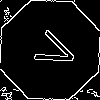V: (25, 25, 80, 74)
